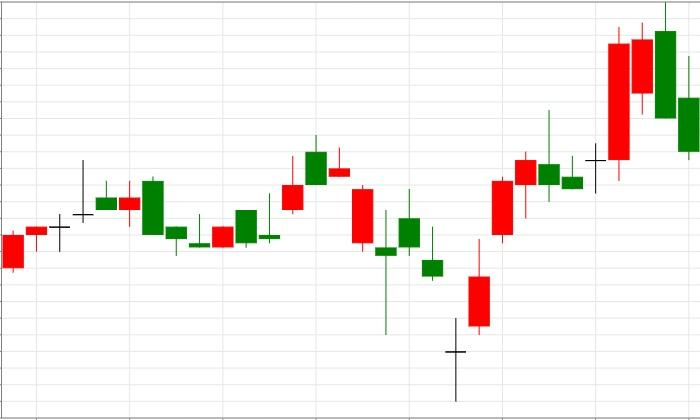bearish_engulfing_fall: (445, 2, 677, 402), (1, 159, 165, 273)
